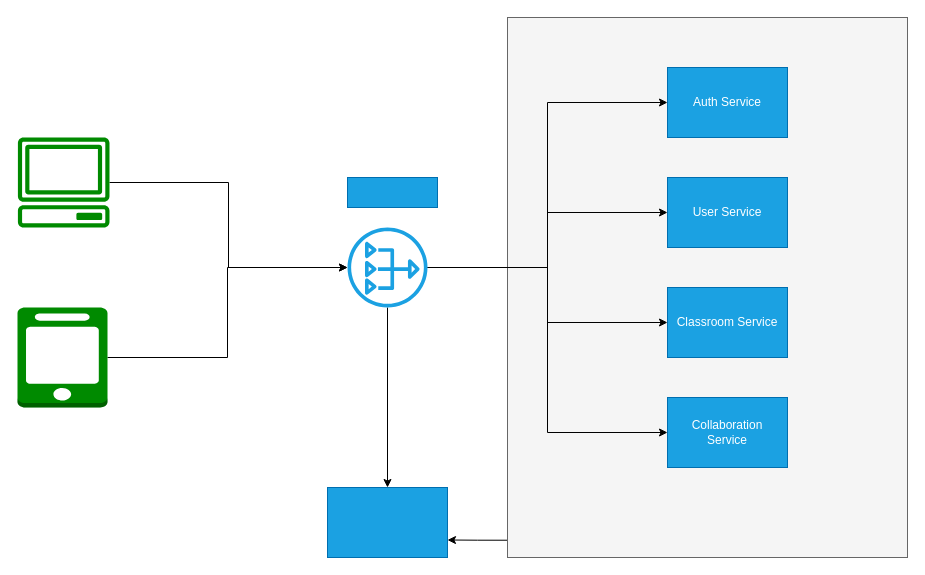
Image size: 925x575. Some labels were removed from this diagram. Here are the shapes that lost their labels. From the top down, the centre of each, then its label:
the point at 392,192: API Gatway
the point at 387,522: Service Registry
